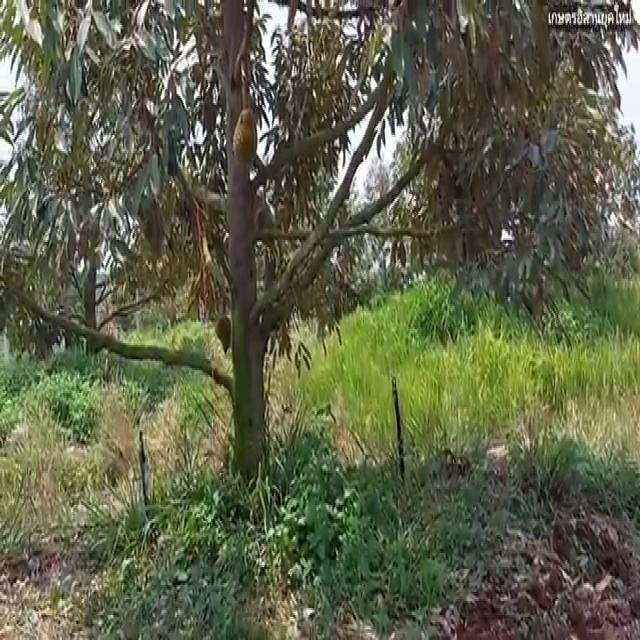durian: (231, 106, 262, 168), (214, 309, 234, 356)
